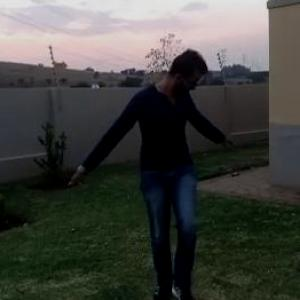land: (66, 40, 244, 291)
